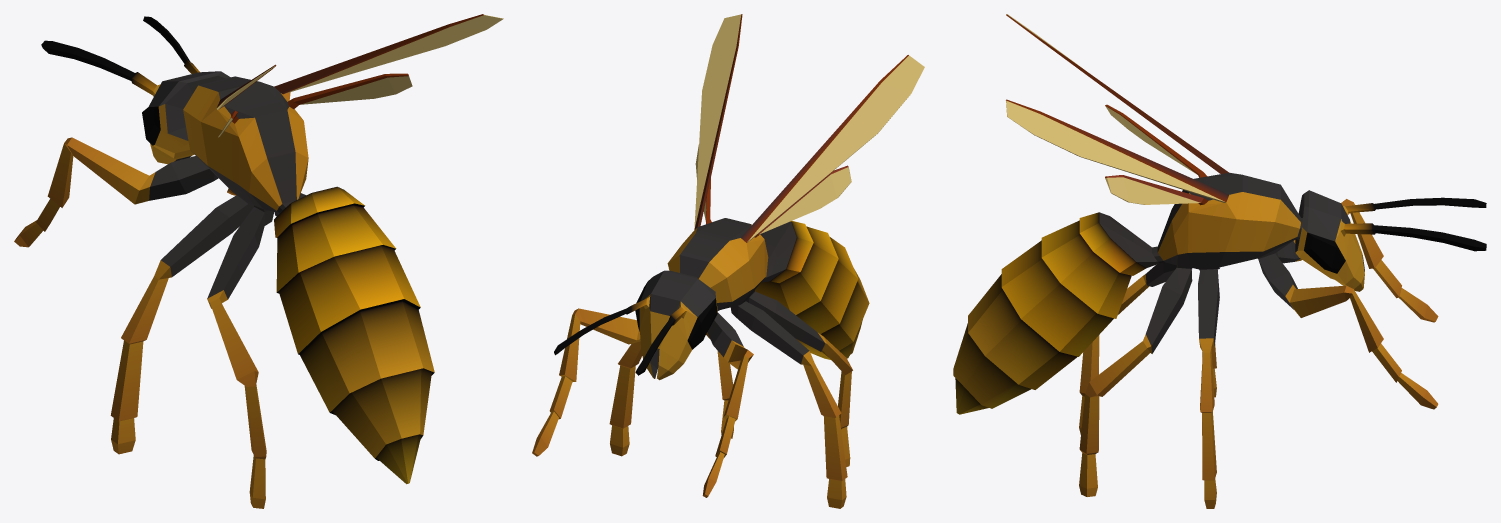
Rendered from wasp.glb.
3 renders of one model, left to right at view 1: azimuth 30°, elevation 25°; view 2: azimuth 150°, elevation 25°; view 3: azimuth 270°, elevation 25°, orthographic. The views are drawn at different scales.
Parts seen in each view (by area): view 1: Плоскость; view 2: Плоскость; view 3: Плоскость.
Part boxes in pixels (<box>): Плоскость: <box>14,14,503,508</box>; Плоскость: <box>532,14,924,508</box>; Плоскость: <box>953,14,1486,508</box>.
Size of the model in its own units: 1.53 by 2.44 by 2.89.
